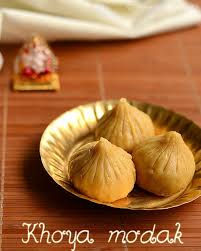modak: (134, 132, 199, 193), (78, 137, 133, 202), (95, 94, 158, 146)
